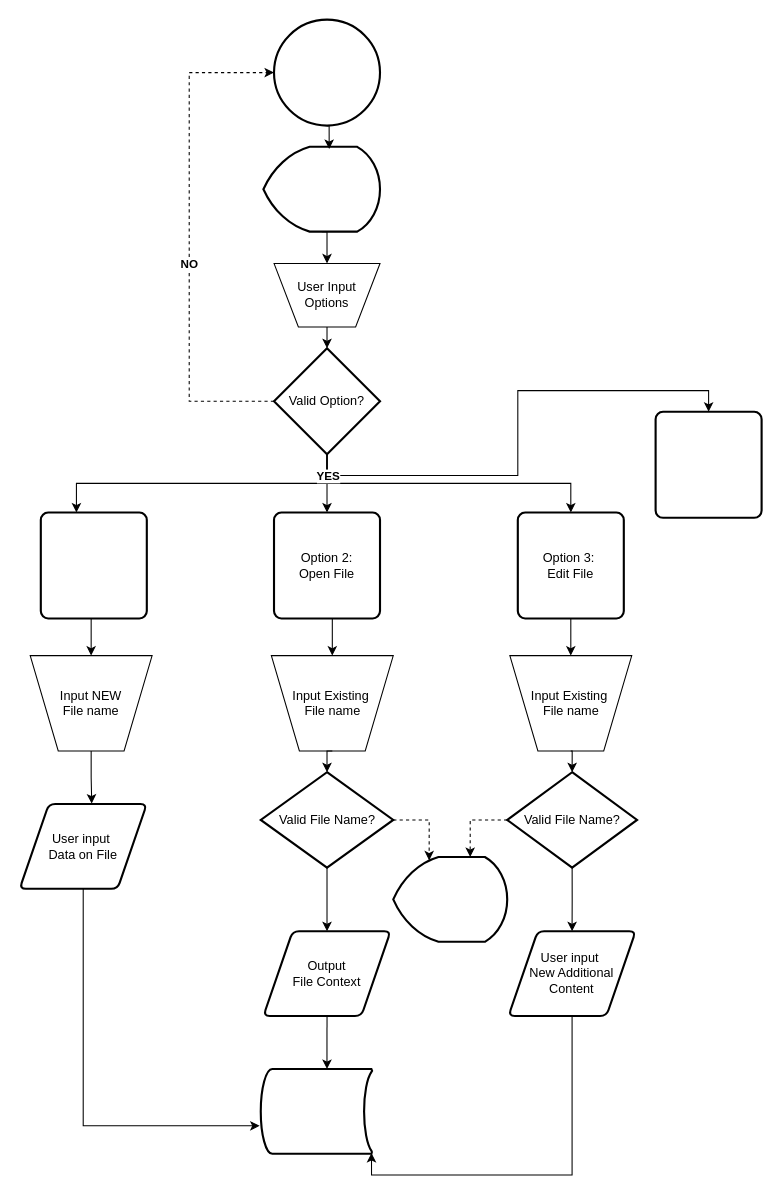
The diagram is 780 pixels wide and 1202 high, and some of its shapes have lost their labels. The shapes that lost their labels are listed below. From the top down, each one's centre as x and y in pixels, then its label:
the point at 326,72: Start
the point at 321,188: Output Options
the point at 708,464: Option 4: Exit Program
the point at 93,565: Option 1: Create New File
the point at 450,898: Output File Name Error
the point at 316,1110: User Input "DONE" File Saved
